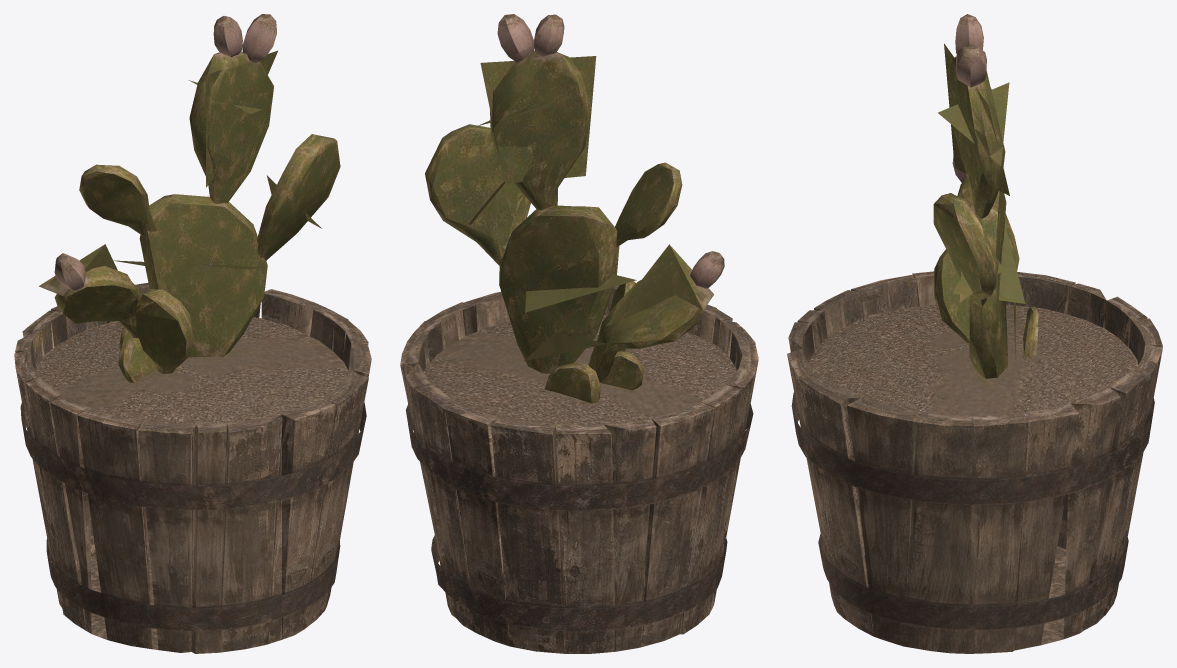
The model's file is potted-plant.glb.
The picture shows the model from 3 angles, left to right: view 1: azimuth 30°, elevation 25°; view 2: azimuth 150°, elevation 25°; view 3: azimuth 270°, elevation 25°; orthographic projection. The views are drawn at different scales.
Parts seen in each view (by area): view 1: GLTF; view 2: GLTF; view 3: GLTF.
Part boxes in pixels (bbox=[...]): GLTF: bbox=[14, 14, 371, 653]; GLTF: bbox=[400, 14, 758, 653]; GLTF: bbox=[787, 14, 1162, 653].
Bounding box in the file's own units: 0.6209 × 1.1 × 0.6311.
1 material, 1 textured.
